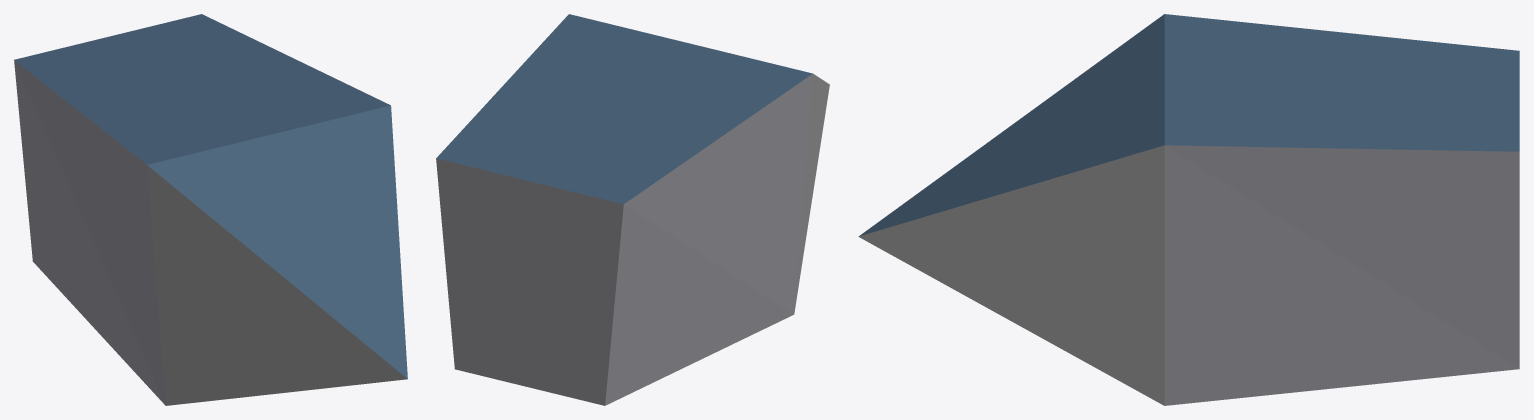
File: cockpit_fang.obj
3 renders of one model, left to right at view 1: azimuth 30°, elevation 25°; view 2: azimuth 150°, elevation 25°; view 3: azimuth 270°, elevation 25°, orthographic. The views are drawn at different scales.
Visible parts, largest first — view 1: cockpit_fang; view 2: cockpit_fang; view 3: cockpit_fang.
Boxes of the visible parts, bbox=[...] form: cockpit_fang: bbox=[14, 14, 407, 405]; cockpit_fang: bbox=[436, 14, 829, 405]; cockpit_fang: bbox=[858, 14, 1519, 405].
Bounding box in the file's own units: 1.04 × 1 × 2.21.
